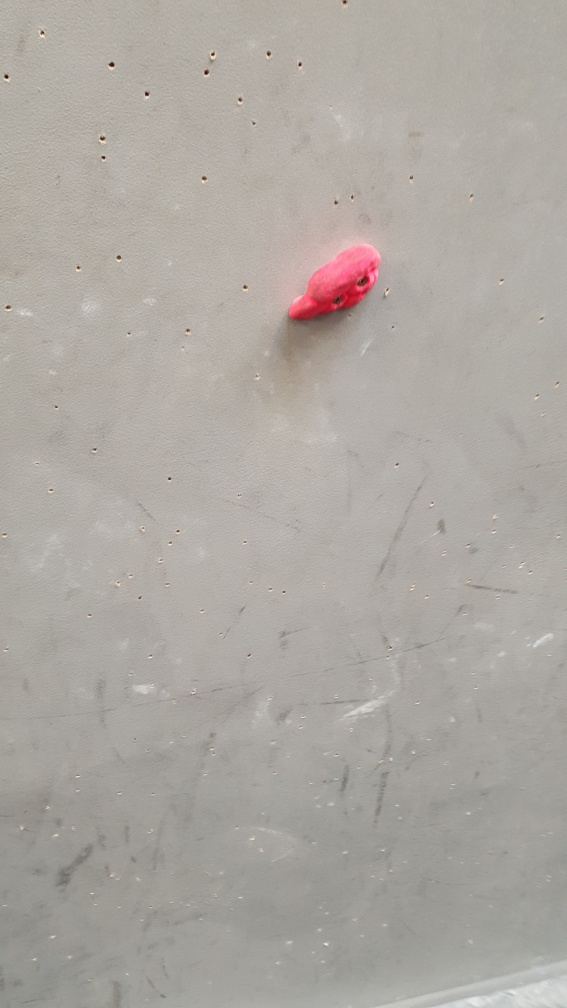Jug: (286, 240, 383, 329)
